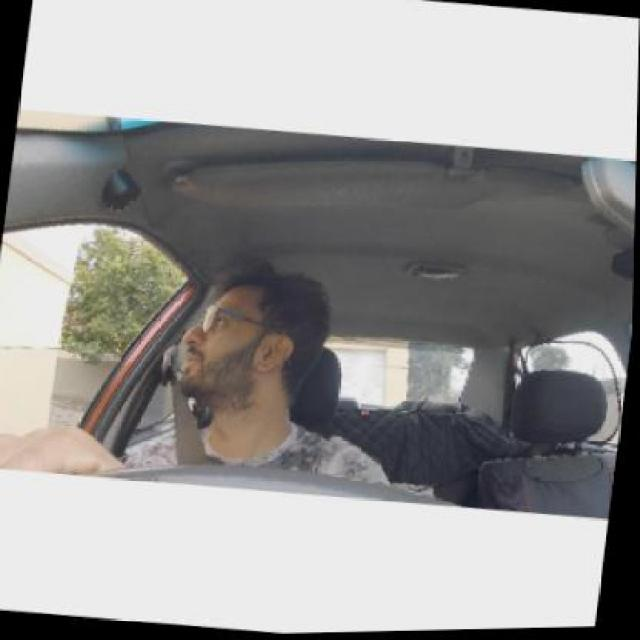LeftRight: (176, 259, 334, 419)
